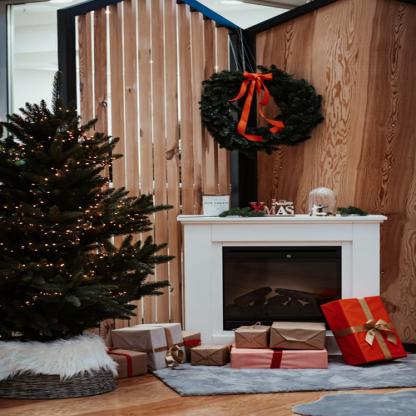present: (106, 318, 191, 372), (334, 301, 398, 372), (232, 354, 336, 378), (272, 322, 328, 352), (116, 352, 177, 376), (196, 344, 238, 372), (232, 324, 270, 348)
x_mas tree: (0, 102, 185, 356)
